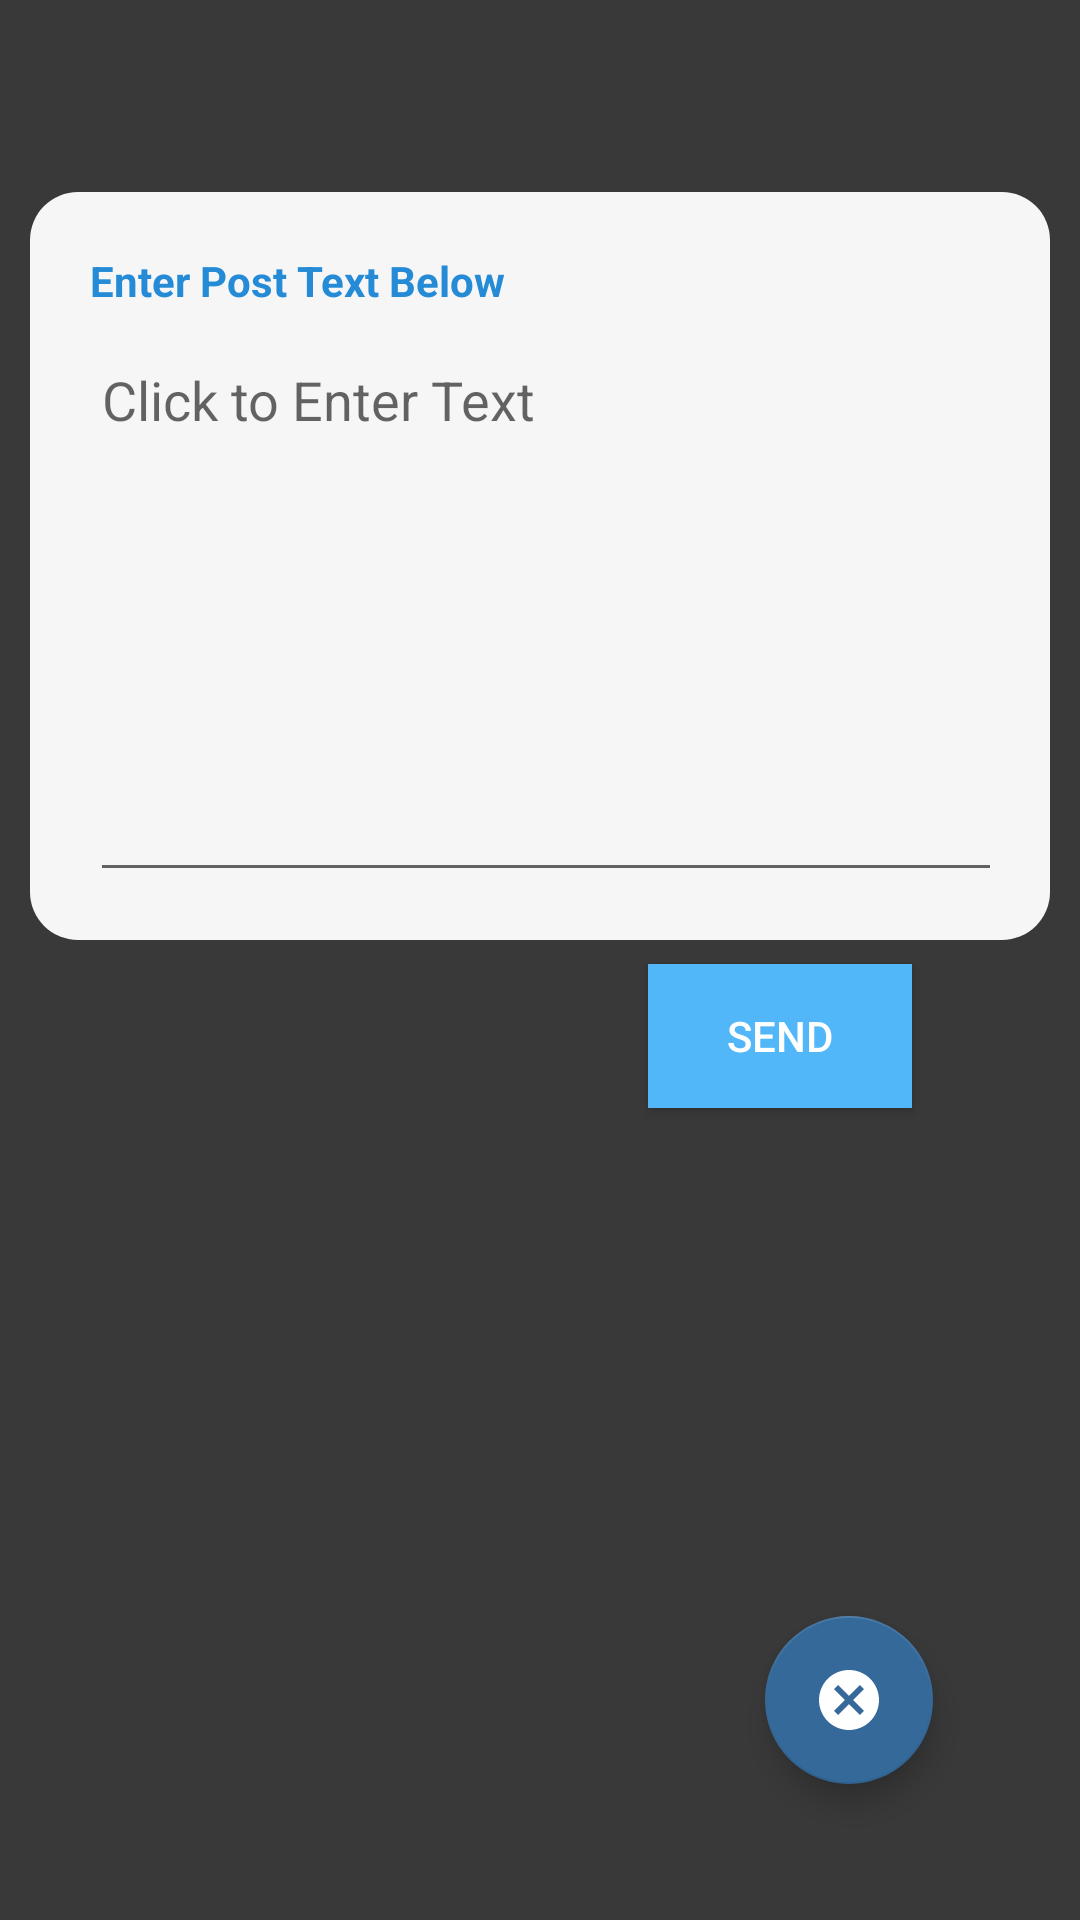

Icon bounding boxes for this 1080x1920 phone screenshot, format (x1, y1, x2, y2):
cancel: (765, 1616, 933, 1784)
